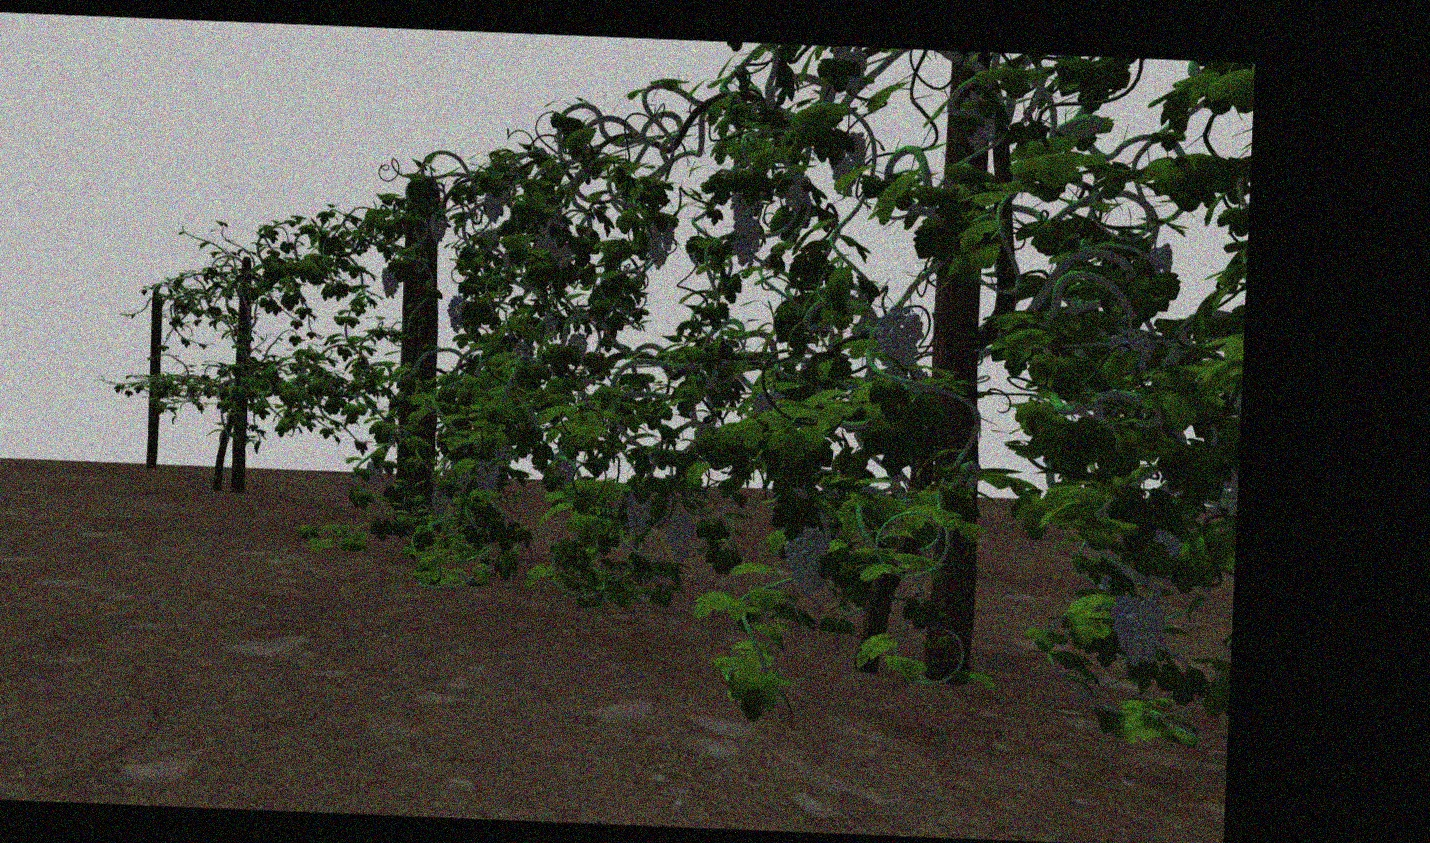grape: (1108, 595, 1168, 667), (875, 304, 924, 376), (783, 526, 826, 596), (961, 91, 1002, 153), (535, 219, 572, 267), (831, 48, 867, 94), (730, 215, 761, 267), (647, 216, 676, 269), (667, 513, 695, 567), (481, 178, 510, 223), (625, 489, 653, 535), (729, 186, 758, 221), (476, 457, 501, 496), (831, 157, 854, 199), (847, 129, 867, 172), (447, 293, 467, 333), (555, 457, 577, 491), (567, 331, 589, 362), (381, 265, 400, 299), (428, 212, 448, 245), (430, 486, 450, 516), (450, 466, 472, 492), (365, 459, 385, 483)
